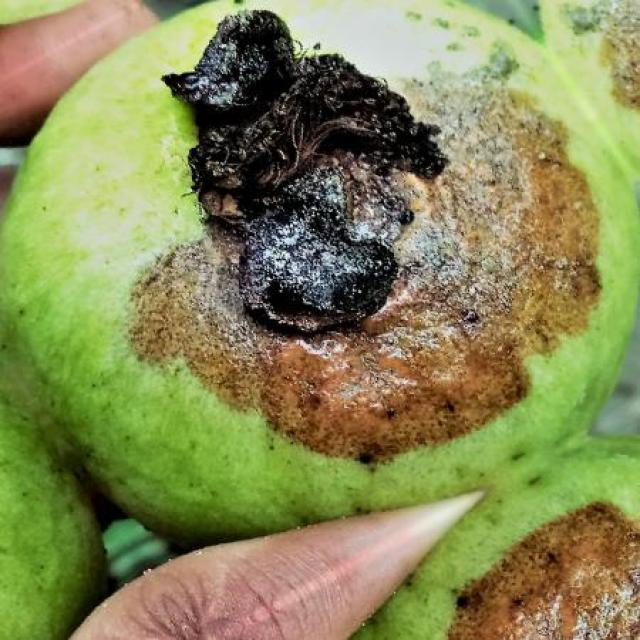Styler and Root: (0, 0, 640, 640)
